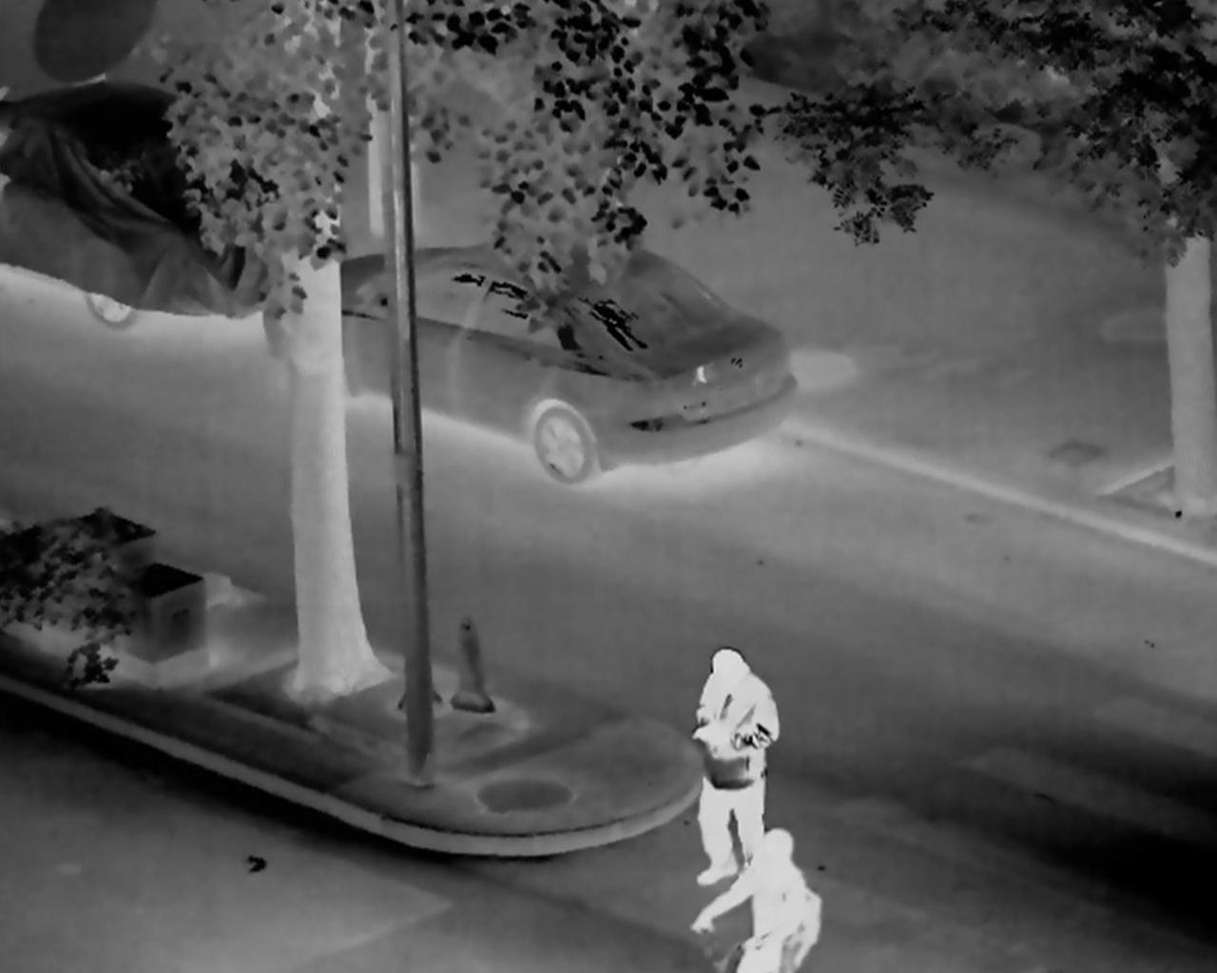person: (693, 648, 766, 892), (695, 829, 816, 973)
